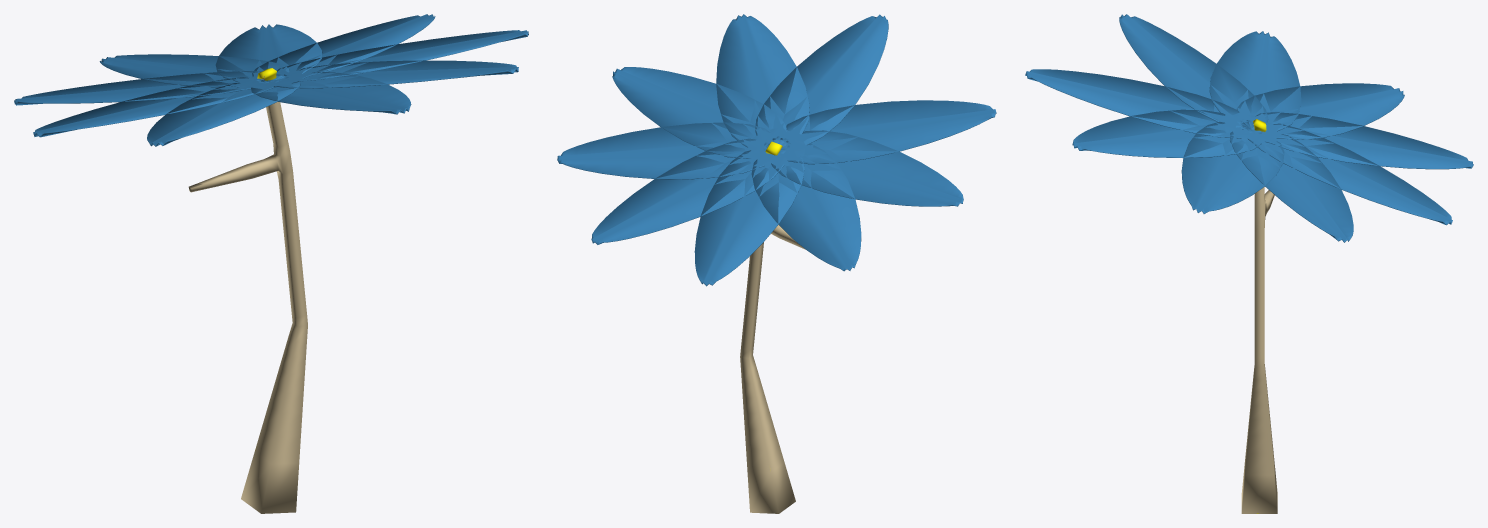
Rendered from Flower.fbx.
3 renders of one model, left to right at view 1: azimuth 30°, elevation 25°; view 2: azimuth 150°, elevation 25°; view 3: azimuth 270°, elevation 25°, orthographic. The views are drawn at different scales.
Visible parts, largest first — view 1: Petals, Stem; view 2: Petals, Stem; view 3: Petals, Stem.
Boxes of the visible parts, bbox=[...] form: Petals: bbox=[14, 14, 528, 146]; Stem: bbox=[188, 68, 307, 513]; Petals: bbox=[557, 14, 996, 286]; Stem: bbox=[740, 141, 805, 513]; Petals: bbox=[1025, 14, 1473, 242]; Stem: bbox=[1241, 119, 1277, 513].
Size of the model in its own units: 0.9131 by 0.889 by 0.9507.
2 materials, 2 textured.
